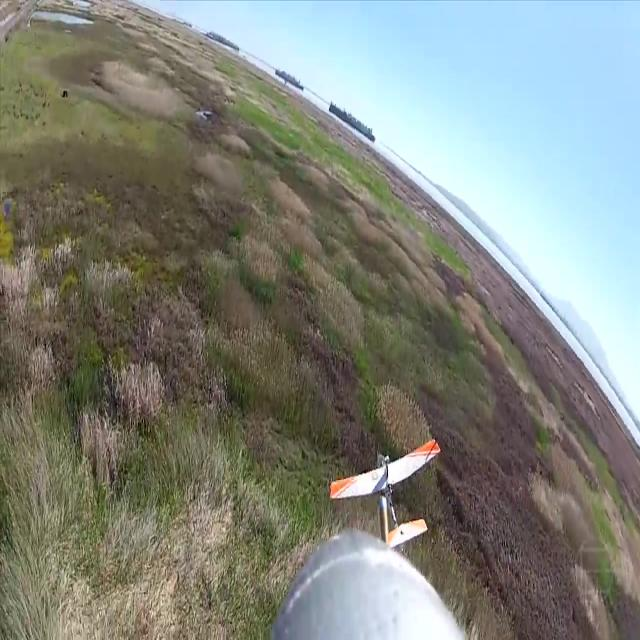iha: (359, 468, 409, 518)
